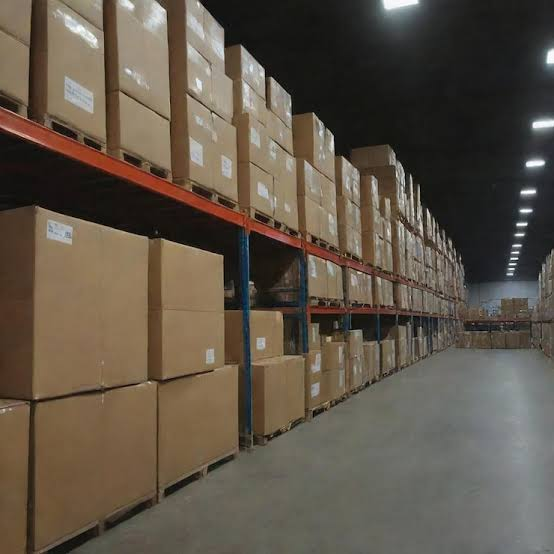box: (33, 220, 149, 391), (27, 398, 145, 524), (162, 244, 229, 378), (160, 375, 236, 472), (249, 319, 310, 433), (39, 5, 102, 111)
